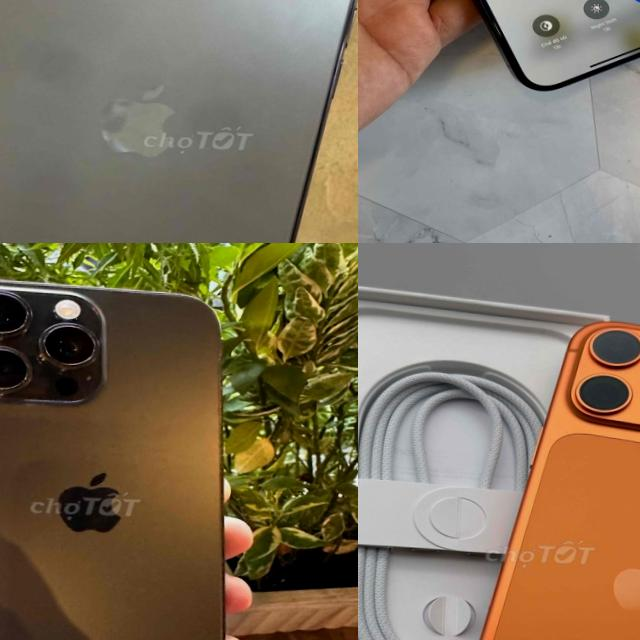gen_12_13: (0, 0, 358, 243)
gen_15: (358, 0, 640, 94)
gen_16: (0, 278, 222, 640)
gen_17: (473, 316, 640, 640)
